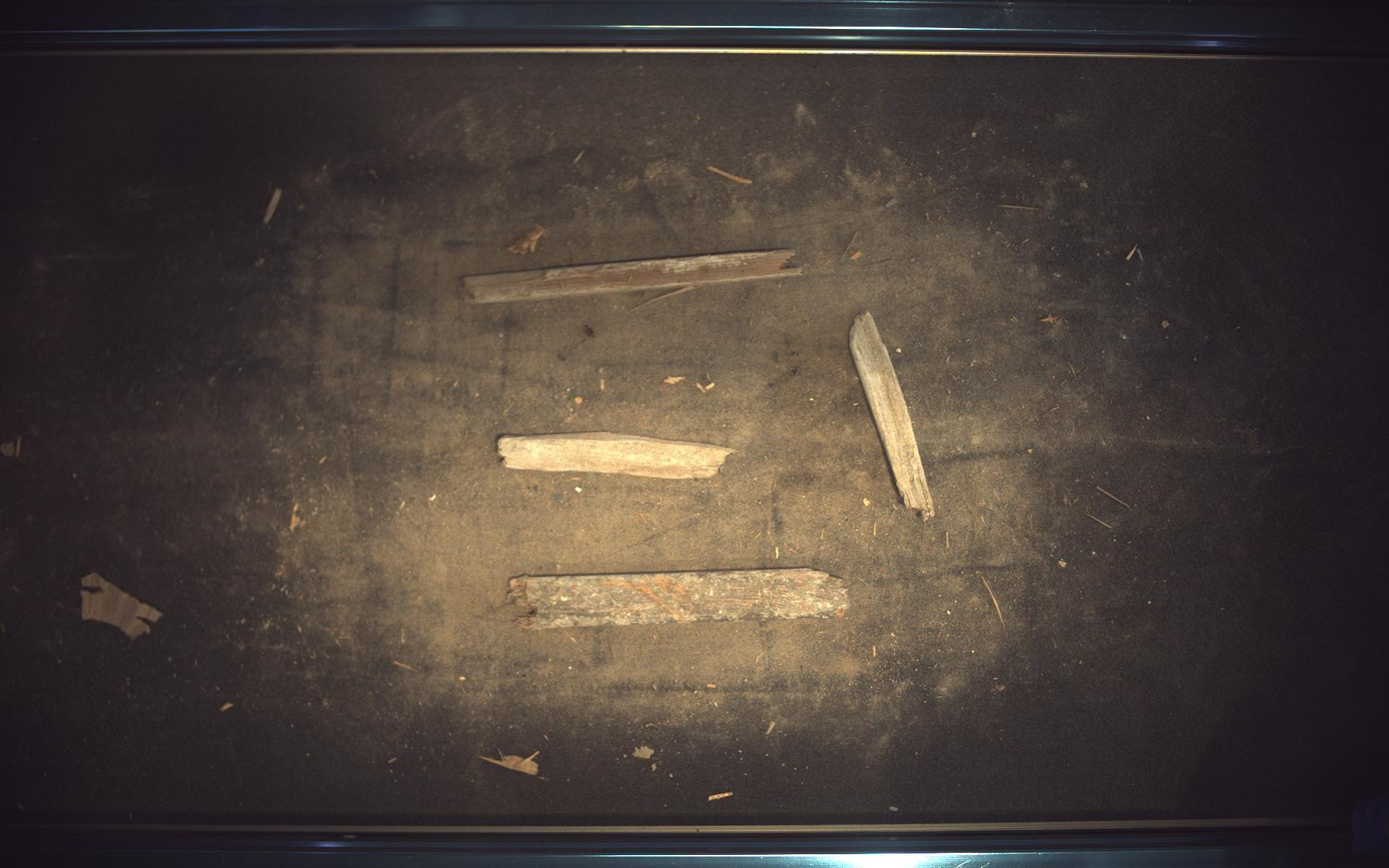wood: (510, 569, 851, 631), (463, 249, 802, 302), (851, 312, 936, 520), (498, 432, 735, 480)
